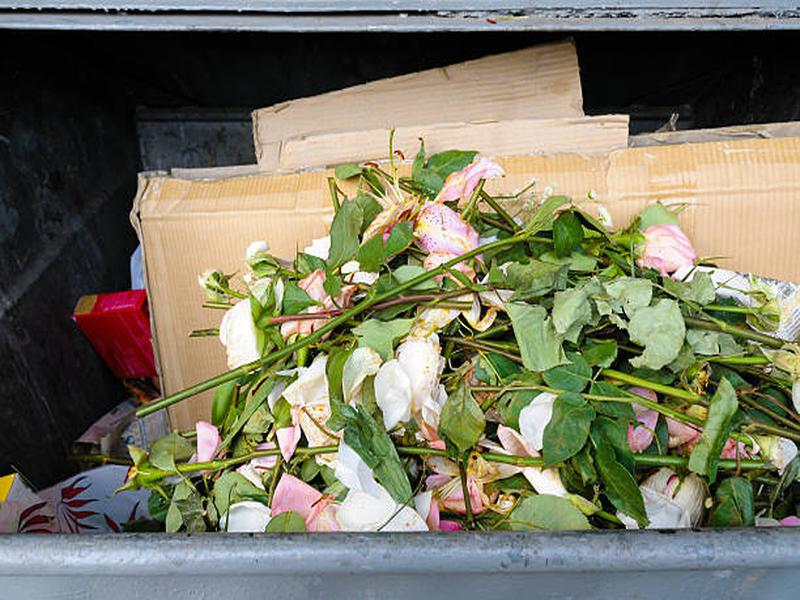flowers: (103, 154, 800, 528)
